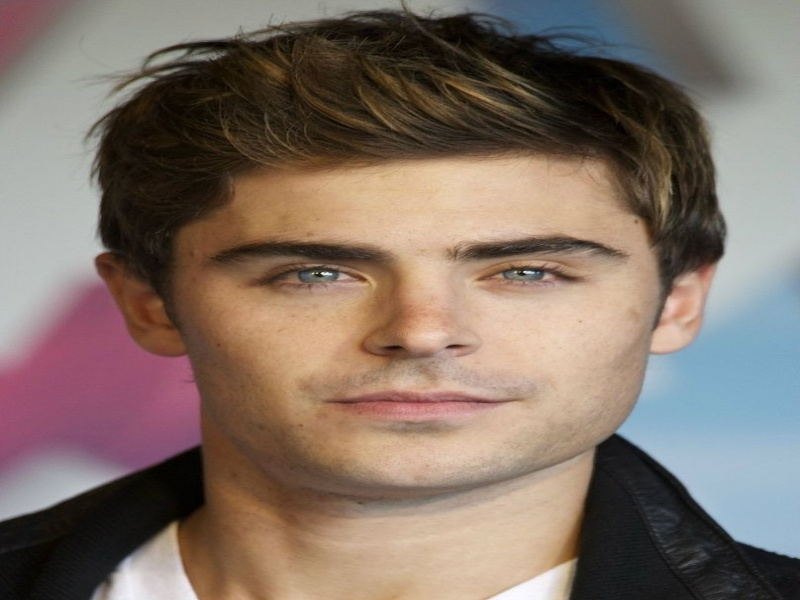face: (204, 183, 642, 436)
